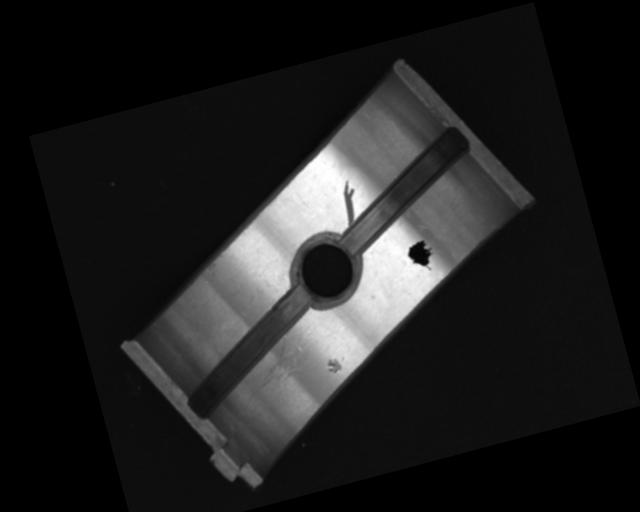blot: (404, 238, 438, 276)
bruise: (324, 354, 348, 376)
gap: (165, 283, 333, 421), (324, 126, 486, 254)
hole: (284, 227, 369, 311)
nick: (336, 178, 363, 226)
scratch: (233, 332, 311, 403)
